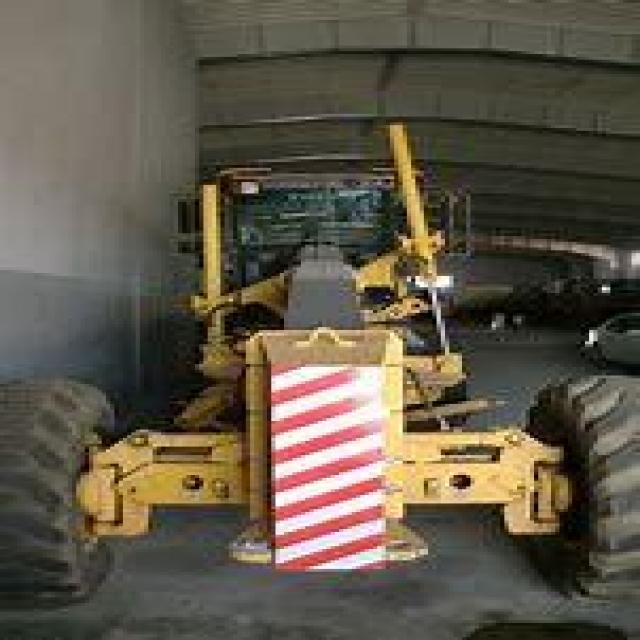Grader: (8, 143, 636, 632)
